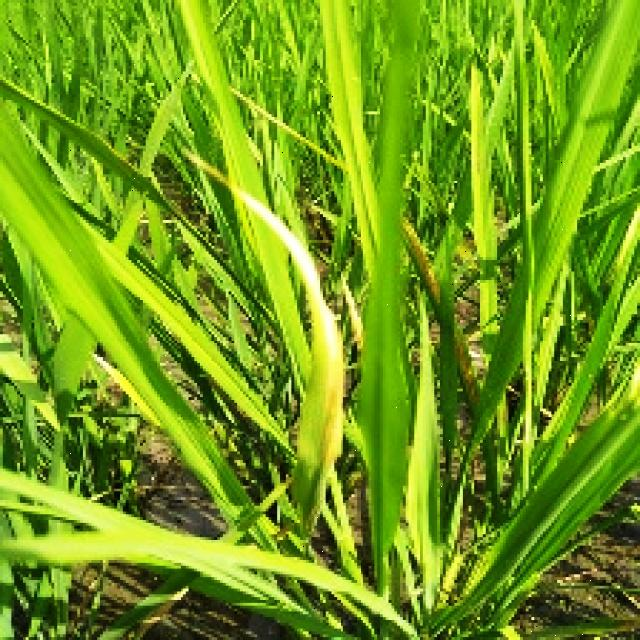unhealth: (286, 217, 356, 523)
